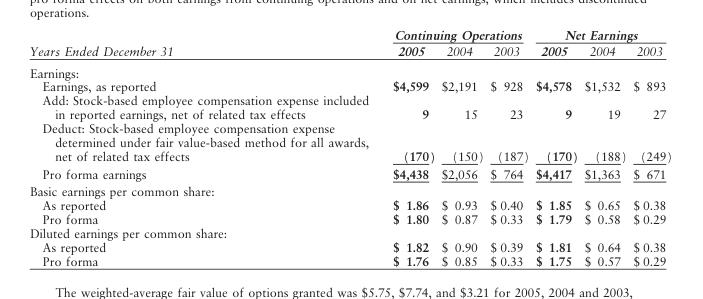table: (28, 28, 671, 268)
table column: (28, 28, 380, 268), (380, 28, 437, 268), (437, 28, 486, 268), (531, 28, 580, 268), (580, 28, 629, 268), (486, 28, 531, 268), (629, 28, 671, 268)
table column header: (28, 28, 671, 62)
table projected row header: (28, 62, 671, 80), (28, 183, 671, 198), (28, 226, 671, 240)
table row: (28, 122, 671, 165), (28, 94, 671, 122), (28, 43, 671, 62), (28, 62, 671, 80), (28, 165, 671, 183), (28, 28, 671, 43), (28, 183, 671, 198), (28, 80, 671, 94), (28, 198, 671, 212), (28, 212, 671, 226), (28, 226, 671, 240), (28, 240, 671, 254), (28, 254, 671, 268)
table spanning cell: (28, 28, 380, 62), (380, 28, 531, 43), (531, 28, 671, 43)
